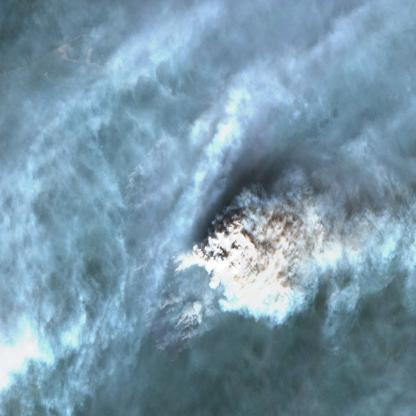fire: (122, 120, 206, 363)
